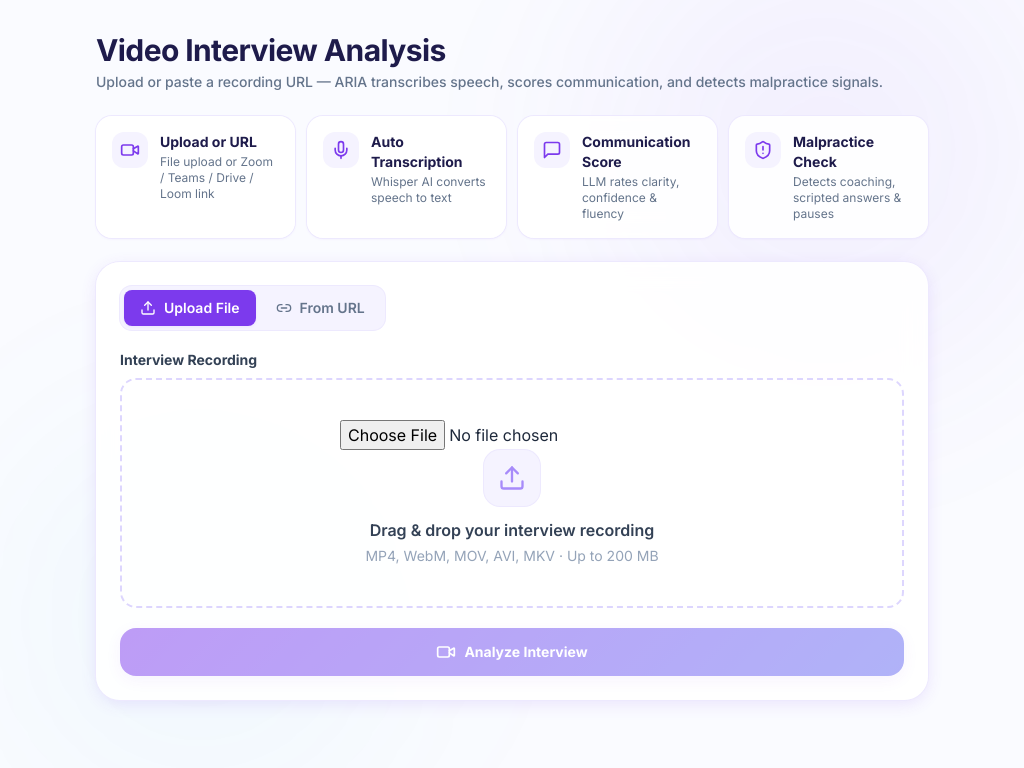
it: VideoPage › shows file dropzone when switching back to upload mode
What coordinates should you click on to do the following:
click the button "From URL"
I would click on:
 (320, 308)
Its box is [260,290,381,326].
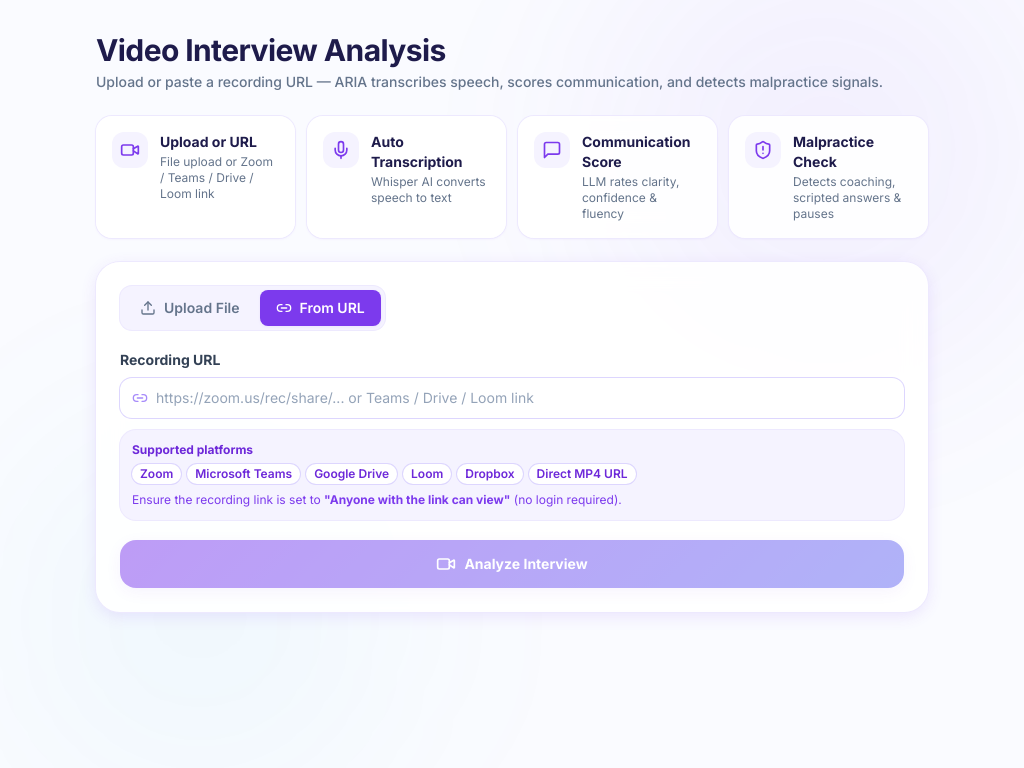
What coordinates should you click on to do the following:
click the button "Upload File"
I would click on:
 (190, 308)
Its box is [124,290,256,326].
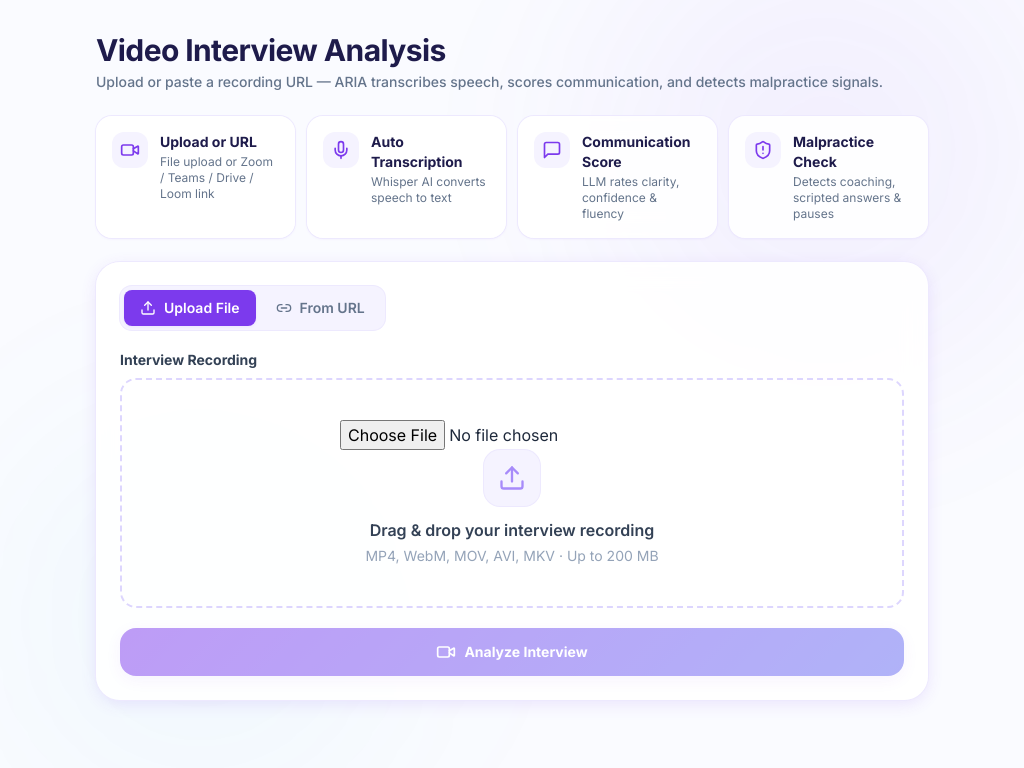
Check: the element with test id "dropzone" is shown, box [120,378,904,608]
